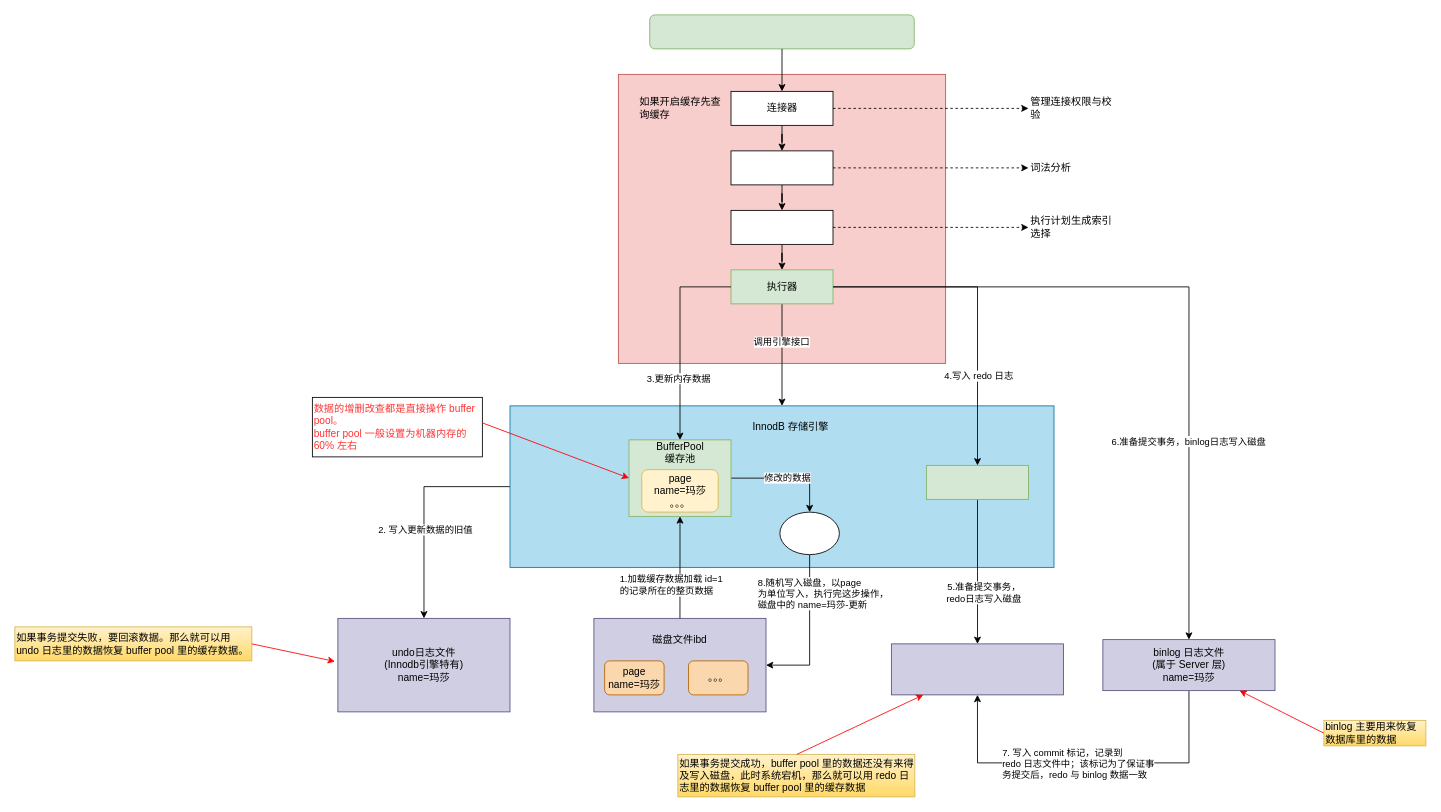
This 1441x812 diagram has some shape labels left out. The shapes that lost their labels are listed below. From the top down, each one's centre as x and y in pixels, then its label:
the point at 781,31: 客户端执行一条 sql update actor_explain set `name`='玛莎' where id=1
the point at 781,167: 分析器
the point at 781,227: 优化器
the point at 977,482: Redo Log Buffer
the point at 809,533: IO 线程
the point at 977,669: redo 日志文件 (InnodB 引擎特有) name=玛莎
